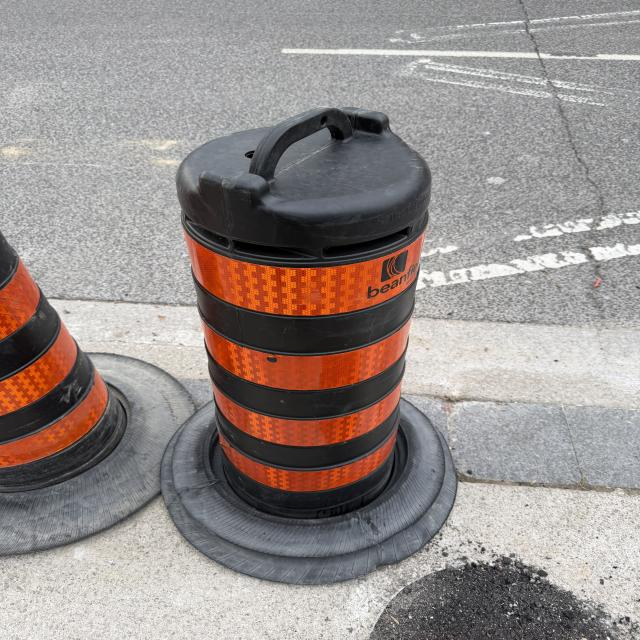Teraffic Barrel: (162, 108, 455, 582), (0, 233, 193, 555)
